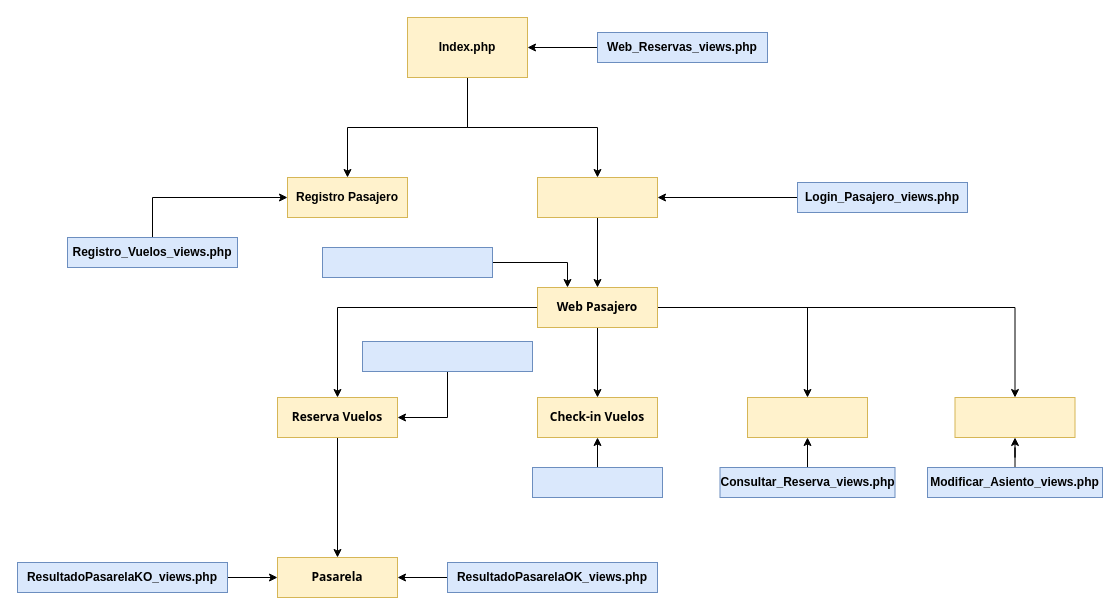
The diagram is 1120 pixels wide and 615 high, and some of its shapes have lost their labels. Each missing label, with the centre of its shape:
"Check_in_views.php" belongs at [597,482].
"Consultar Reserva" belongs at [807,417].
"Login Pasajeros" belongs at [597,197].
"Modificar Asiento" belongs at [1014,417].
"Reserva_Vuelos_views.php" belongs at [447,356].
"Web_Pasajero_views.php" belongs at [407,262].
